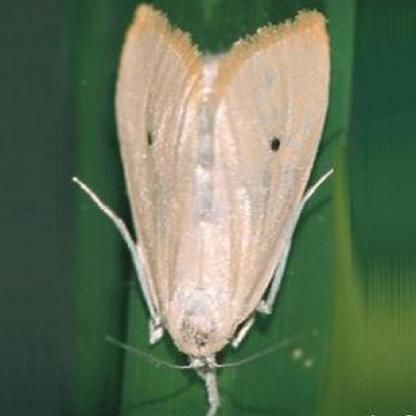stem-borer: (69, 2, 336, 416)
